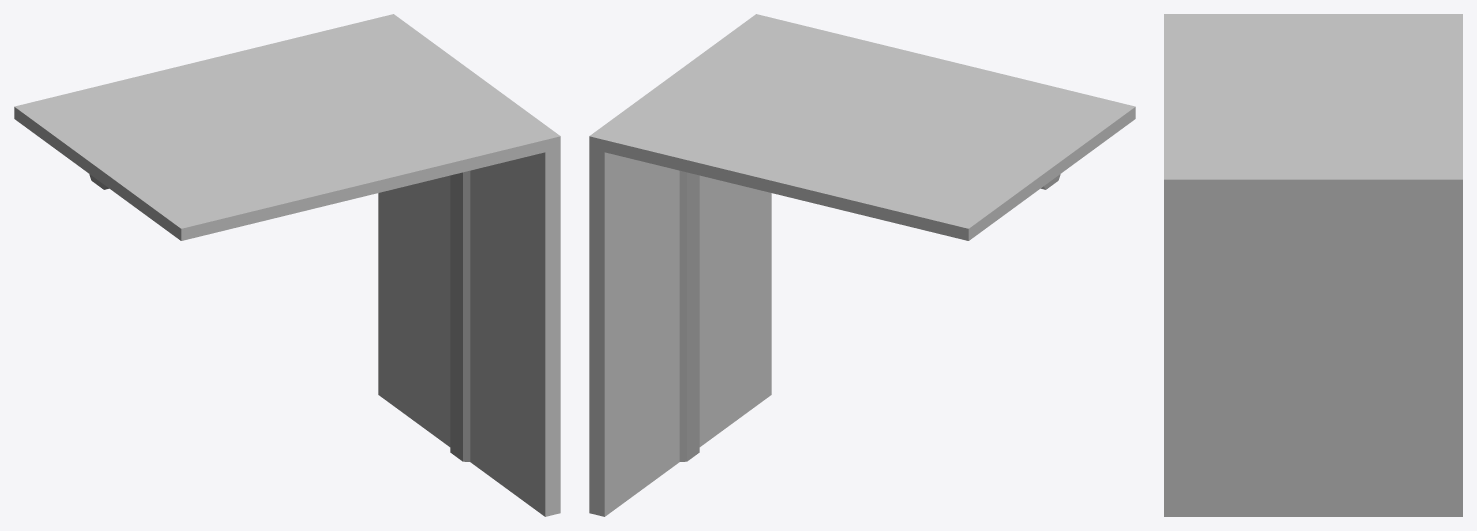
The model's file is Counter 3 C.fbx.
3 views of the same model, side by side, from view 1: azimuth 30°, elevation 25°; view 2: azimuth 150°, elevation 25°; view 3: azimuth 270°, elevation 25° (orthographic). The views are drawn at different scales.
Parts seen in each view (by area): view 1: Counter 3 C; view 2: Counter 3 C; view 3: Counter 3 C.
Boxes of the visible parts, x1,y1,x2,y2 form: Counter 3 C: (14,14,560,516); Counter 3 C: (589,14,1135,516); Counter 3 C: (1164,14,1462,516).
Bounding box in the file's own units: 100 × 94.9 × 76.23.
